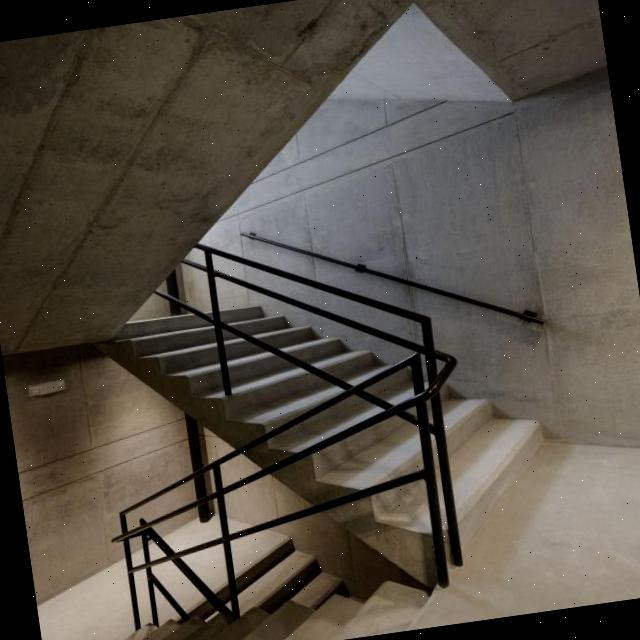stairs: (25, 262, 567, 640)
